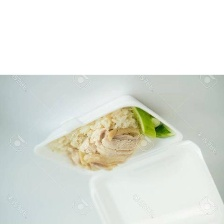foam_box: (27, 90, 224, 224)
